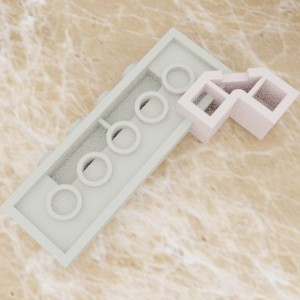lego: (0, 26, 236, 268), (174, 67, 299, 144)
